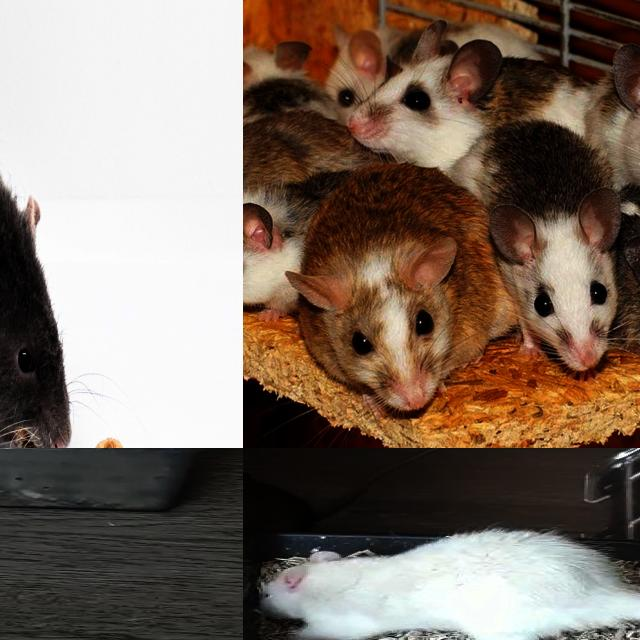rat: (290, 165, 482, 408), (261, 527, 636, 640), (350, 18, 604, 158), (0, 0, 71, 448), (243, 174, 310, 324), (243, 482, 315, 616)
